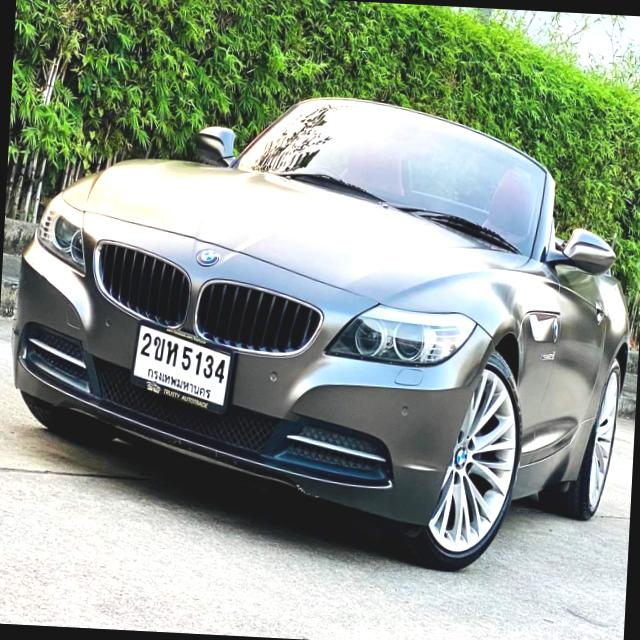license_plate: (130, 318, 240, 420)
